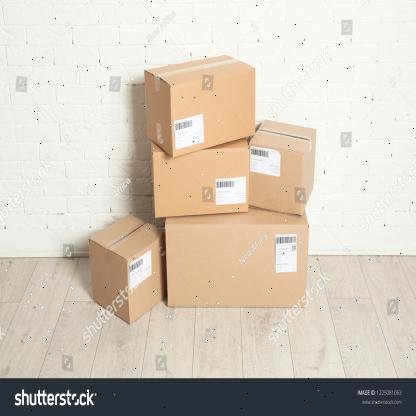box: (166, 223, 309, 308), (172, 68, 255, 158), (152, 148, 249, 218), (247, 145, 304, 217), (89, 236, 130, 324)
